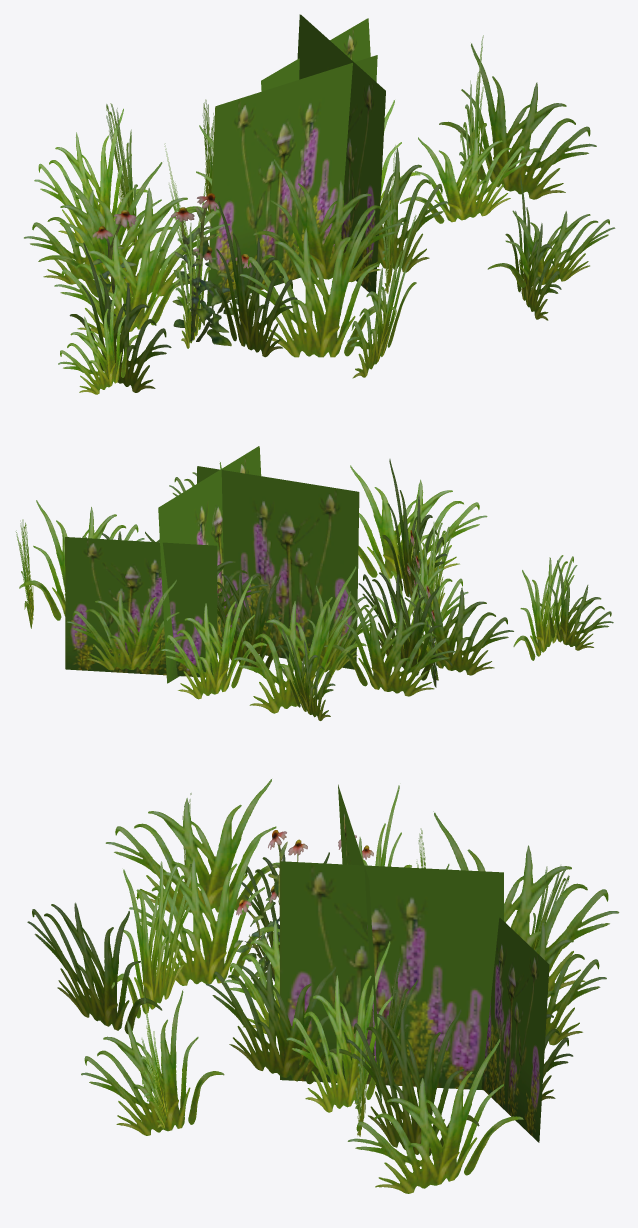
File: DN_grass01b.FBX
3 views of the same model, one above another, from view 1: azimuth 30°, elevation 25°; view 2: azimuth 150°, elevation 25°; view 3: azimuth 270°, elevation 25° (orthographic). The views are drawn at different scales.
Visible parts, largest first — view 1: DN_grass01b; view 2: DN_grass01b; view 3: DN_grass01b.
Boxes of the visible parts, <box> form: DN_grass01b: <box>24,14,615,394</box>; DN_grass01b: <box>15,446,613,720</box>; DN_grass01b: <box>27,779,619,1193</box>.
Size of the model in its own units: 166 by 54.56 by 126.
